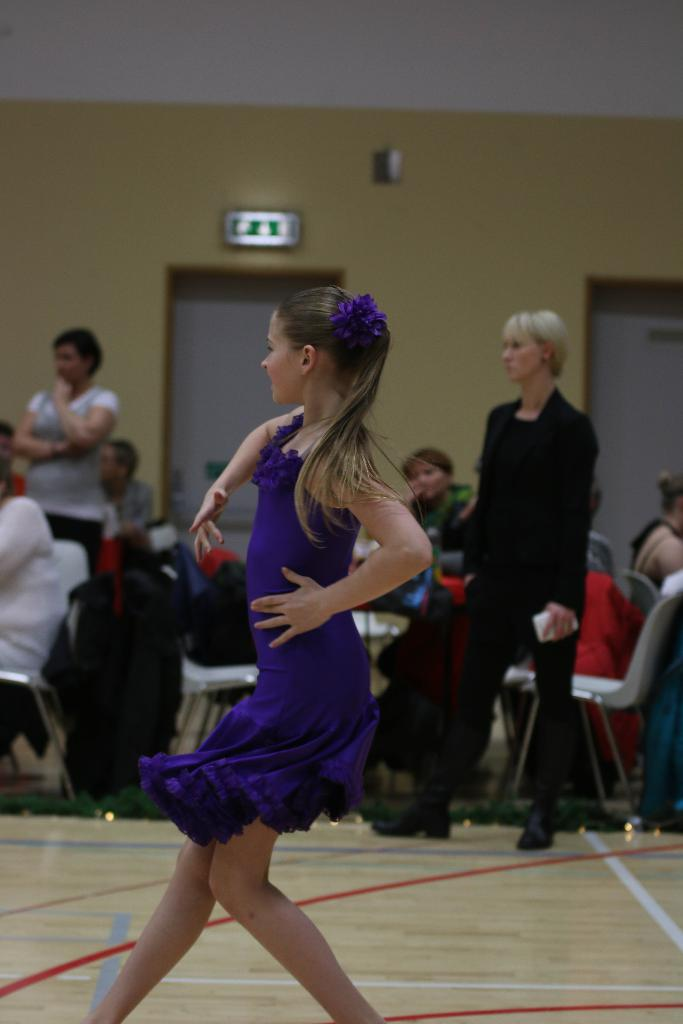Human_hand: (239, 573, 334, 640), (187, 488, 226, 565), (547, 602, 578, 642), (51, 374, 74, 401), (56, 441, 77, 458)
